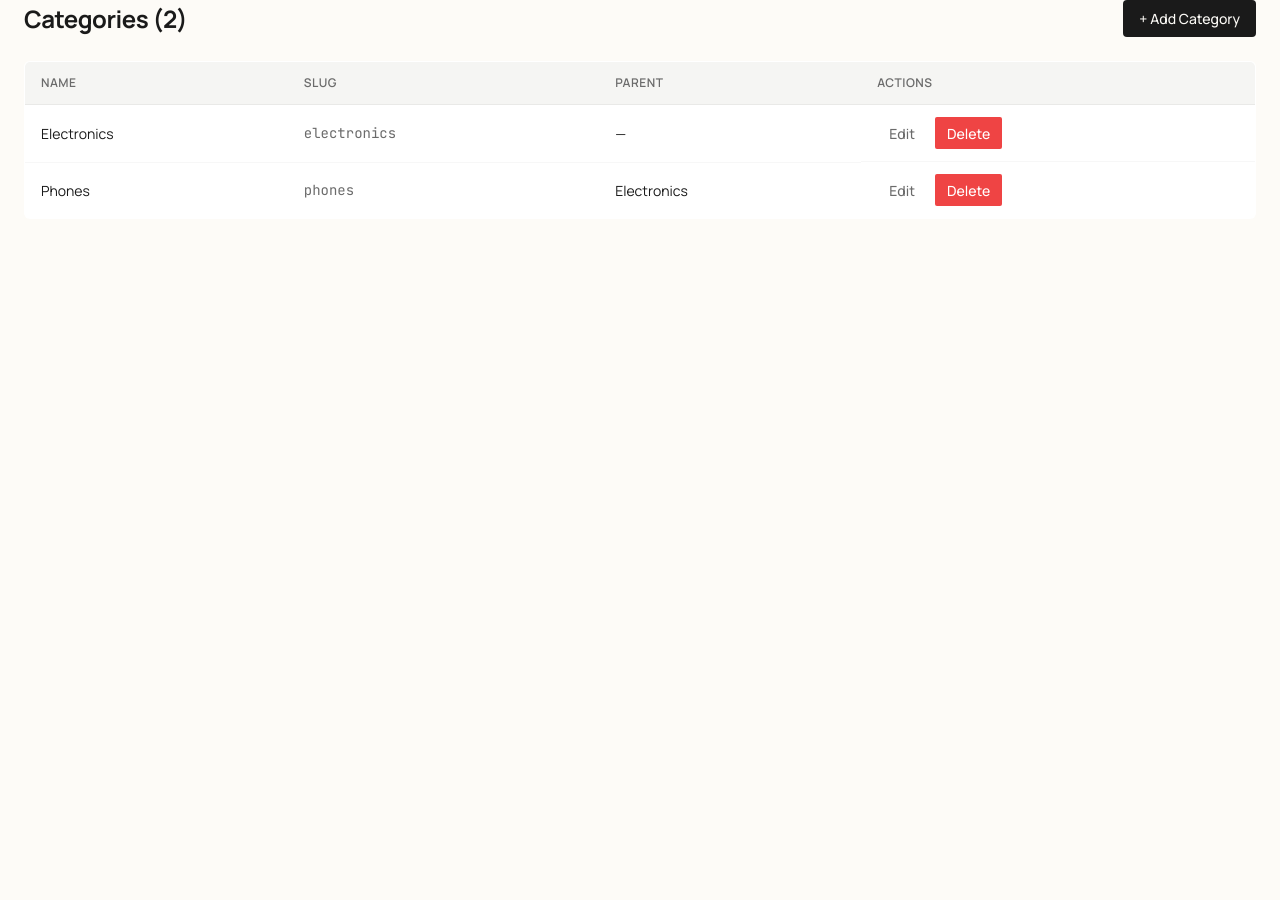
Test case: AdminCategoriesPage › opens create modal
This screenshot has width=1280, height=900.
Click the button "+ Add Category".
click(1190, 18)  # box [1123,0,1256,37]
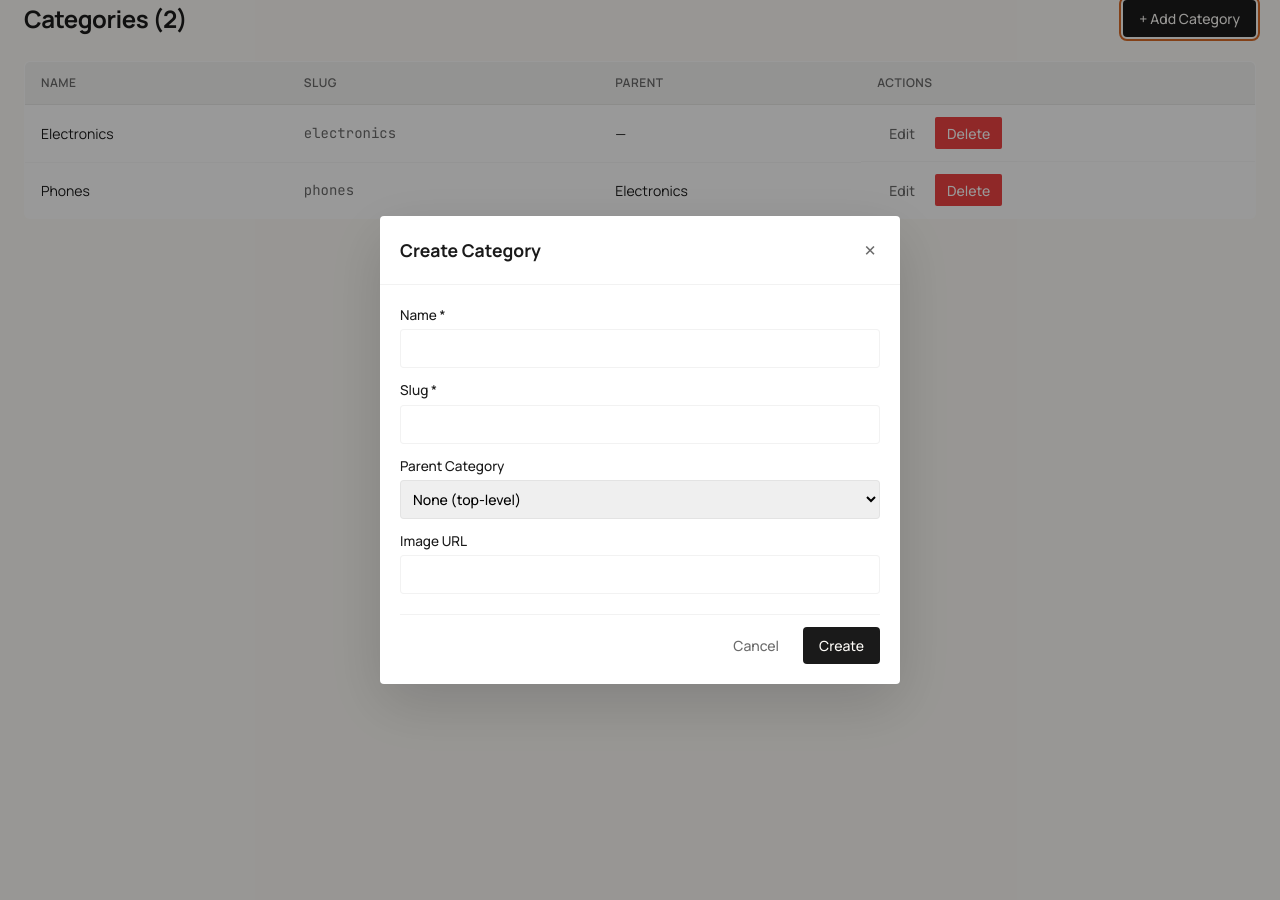
Check: the heading "Create Category" is shown, box [400,236,541,263]
